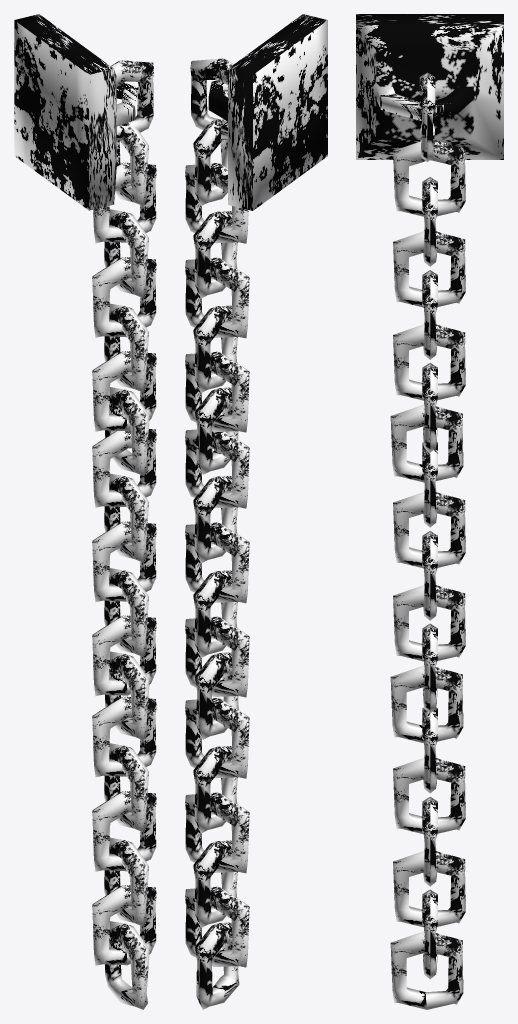
File: Kette_2.fbx
The picture shows the model from 3 angles, left to right: view 1: azimuth 30°, elevation 25°; view 2: azimuth 150°, elevation 25°; view 3: azimuth 270°, elevation 25°; orthographic projection.
Parts seen in each view (by area): view 1: Cube.013; view 2: Cube.013; view 3: Cube.013.
Boxes of the visible parts, x1,y1,x2,y2 form: Cube.013: (14,14,156,1009); Cube.013: (185,14,327,1009); Cube.013: (356,14,503,1009).
Size of the model in its own units: 7.4 by 65.58 by 9.17.
